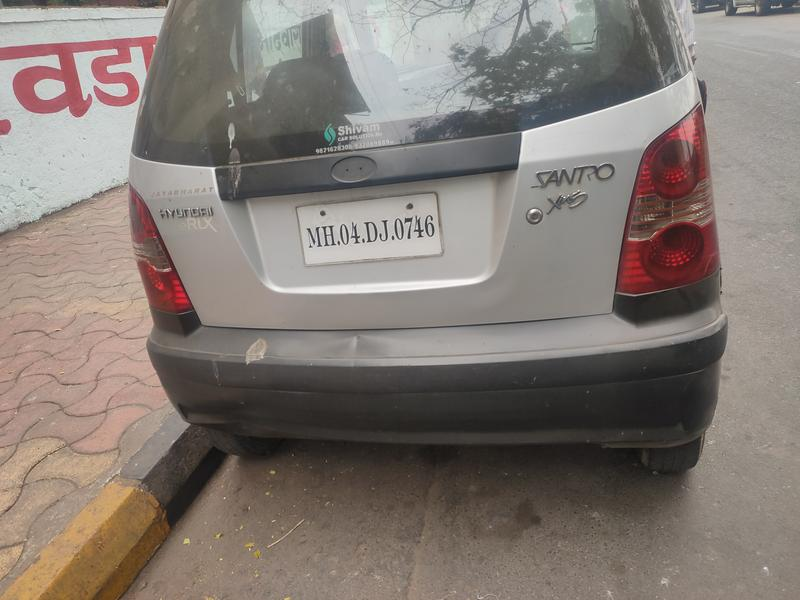license_plate: (290, 189, 449, 265)
